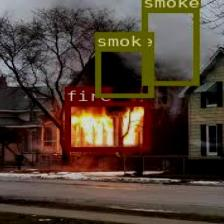fire: (64, 102, 149, 150)
smoke: (142, 8, 198, 85), (94, 47, 153, 97)
